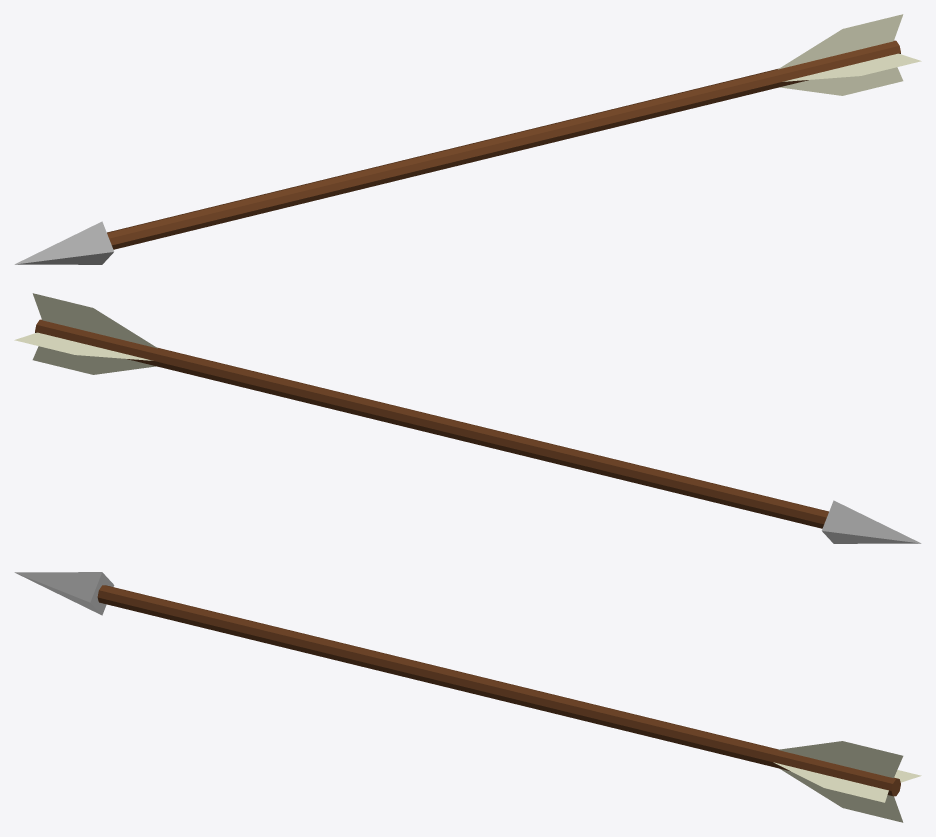
File: Arrow.glb
3 renders of one model, top to bottom at view 1: azimuth 30°, elevation 25°; view 2: azimuth 150°, elevation 25°; view 3: azimuth 330°, elevation 25°, orthographic.
Visible parts, largest first — view 1: Arrow; view 2: Arrow; view 3: Arrow.
Part boxes in pixels (x1,y1,x2,y2): Arrow: (14,14,921,264); Arrow: (14,293,921,543); Arrow: (14,572,921,822).
Bounding box in the file's own units: 13.44 × 0.9683 × 0.9683.
